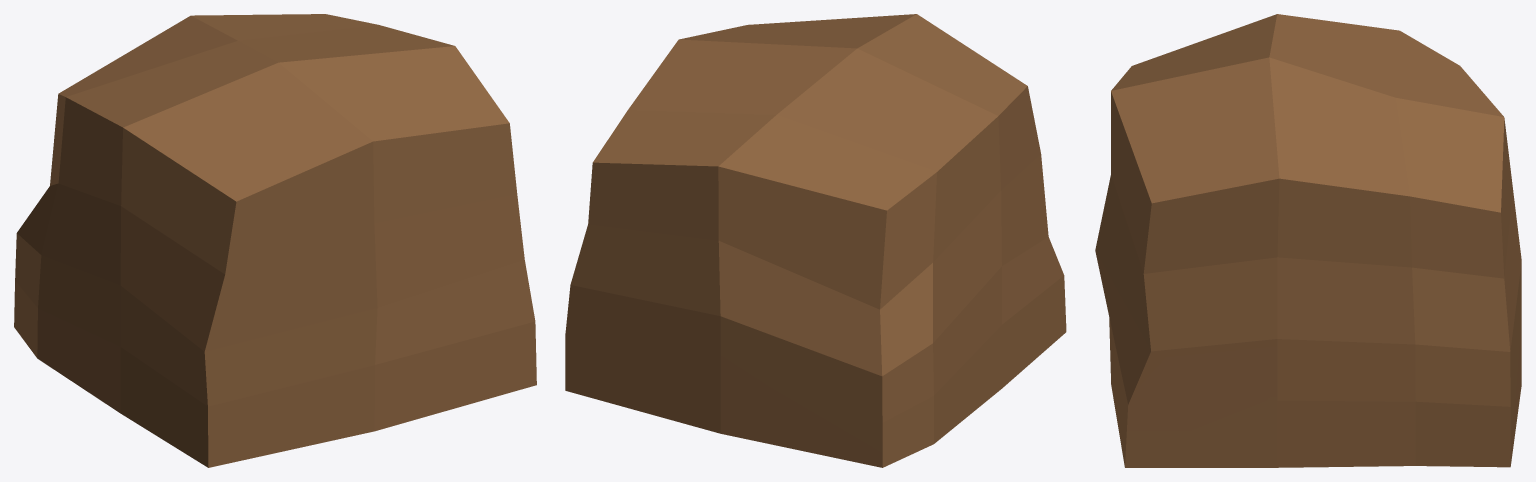
File: ground1.glb
The picture shows the model from 3 angles, left to right: view 1: azimuth 30°, elevation 25°; view 2: azimuth 150°, elevation 25°; view 3: azimuth 270°, elevation 25°; orthographic projection. The views are drawn at different scales.
Visible parts, largest first — view 1: Ground1; view 2: Ground1; view 3: Ground1.
Part boxes in pixels (x1=…): Ground1: x1=14, y1=14, x2=536, y2=467; Ground1: x1=565, y1=14, x2=1066, y2=467; Ground1: x1=1095, y1=14, x2=1521, y2=467.
Size of the model in its own units: 1.93 by 1.68 by 2.03.
Materials: 1 (1 with a texture image).
